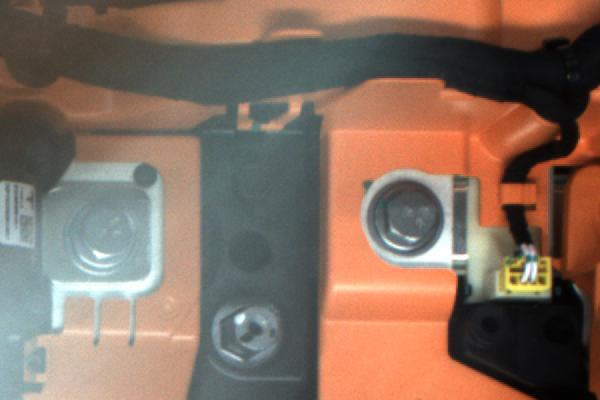nut_b: (358, 172, 444, 257)
